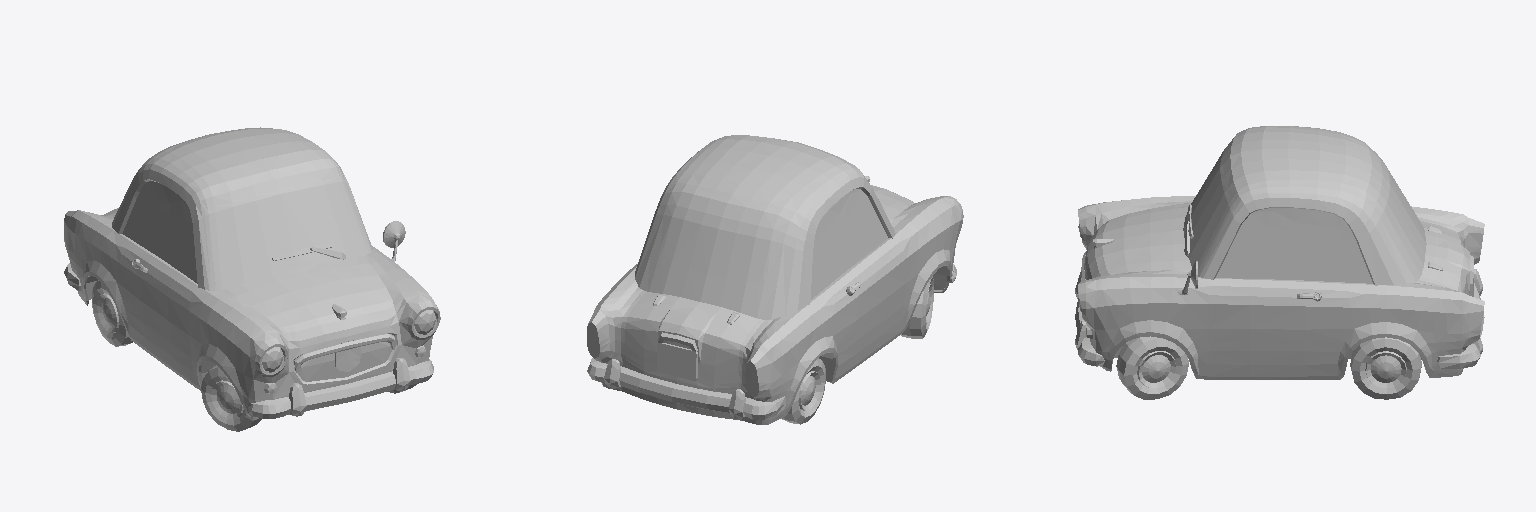
The model's file is cartoon-car.obj.
The picture shows the model from 3 angles: view 1: azimuth 30°, elevation 25°; view 2: azimuth 150°, elevation 25°; view 3: azimuth 270°, elevation 25°; orthographic projection.
Bounding box in the file's own units: 403 × 375 × 665.